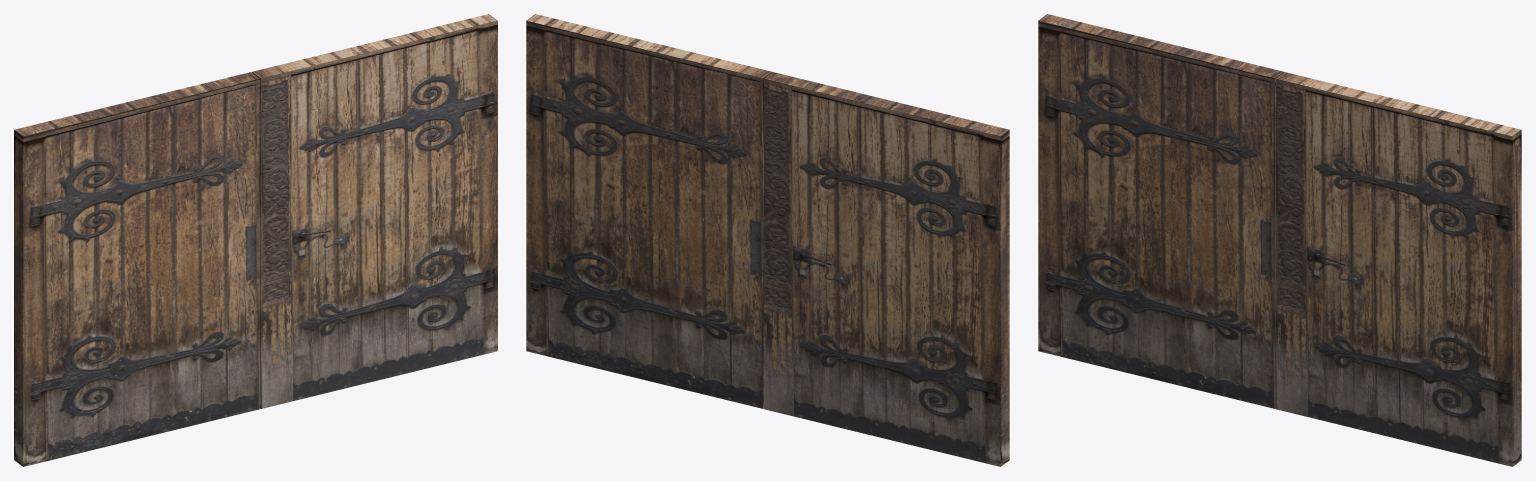
File: Door Old Wooden 1.FBX
3 views of the same model, side by side, from view 1: azimuth 30°, elevation 25°; view 2: azimuth 150°, elevation 25°; view 3: azimuth 330°, elevation 25° (orthographic).
Visible parts, largest first — view 1: Door Old Wooden, Door Old Wooden 2; view 2: Door Old Wooden, Door Old Wooden 2; view 3: Door Old Wooden 2, Door Old Wooden.
Boxes of the visible parts, x1=… form: Door Old Wooden: x1=14, y1=72, x2=260, y2=466; Door Old Wooden 2: x1=252, y1=14, x2=497, y2=408; Door Old Wooden: x1=763, y1=72, x2=1009, y2=466; Door Old Wooden 2: x1=526, y1=14, x2=772, y2=408; Door Old Wooden 2: x1=1275, y1=72, x2=1521, y2=466; Door Old Wooden: x1=1038, y1=14, x2=1284, y2=408.
Bounding box in the file's own units: 142 × 94.49 × 4.79.
1 material, 1 textured.
